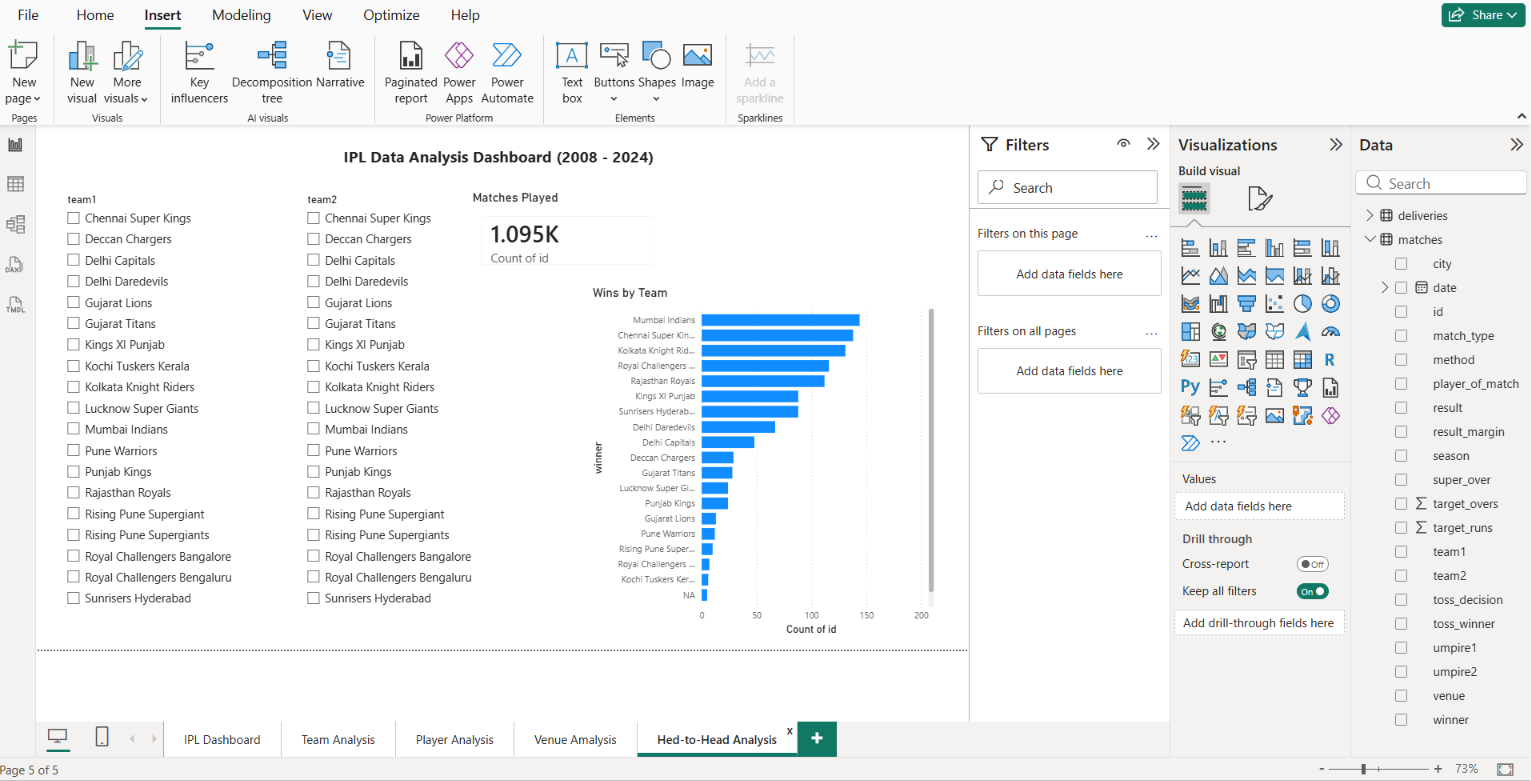

Layout of this report page (visuals, bound fields, positions):
{"tool":"powerbi","page":{"name":"Hed-to-Head Analysis","canvas":[1280,720],"ordinal":4},"visuals":[{"type":"slicer","fields":{"Values":["matches.team1"]},"box":[30.2,89.2,279.9,631.2],"z":0},{"type":"slicer","fields":{"Values":["matches.team2"]},"box":[359.5,89.2,279.9,594.2],"z":1},{"type":"cardVisual","title":"Matches Played","fields":{"Data":["CountNonNull(matches.id)"]},"box":[594.2,89.2,271.7,120.8],"z":2},{"type":"clusteredBarChart","title":"Wins by Team","fields":{"Category":["matches.winner"],"Y":["CountNonNull(matches.id)"]},"box":[758.8,219.6,478.9,485.8],"z":3},{"type":"textbox","box":[417.2,23.3,461.1,50.8],"z":4}]}

Visuals, with their boxes on the page's 1280x720 design canvas (x1, y1, x2, y2). These are canvas units, not pixel positions in the 1531x781 screenshot, which may show the page scaled, cropped or inside an application window:
slicer - matches.team1: (left=30, top=89, right=310, bottom=720)
slicer - matches.team2: (left=360, top=89, right=639, bottom=683)
"Matches Played" cardVisual: (left=594, top=89, right=866, bottom=210)
"Wins by Team" clusteredBarChart: (left=759, top=220, right=1238, bottom=705)
textbox: (left=417, top=23, right=878, bottom=74)
